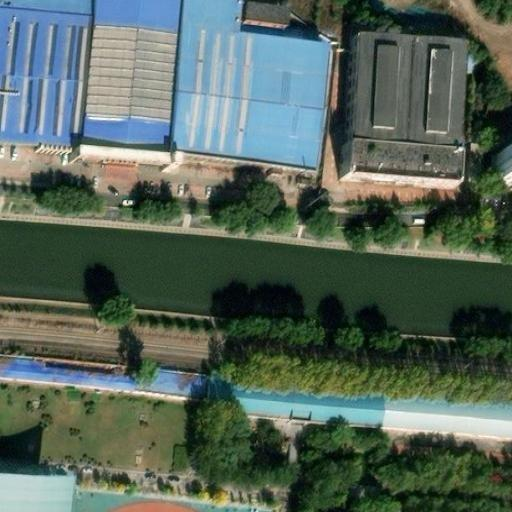building: (216, 381, 512, 443), (339, 32, 459, 184), (76, 0, 178, 172), (161, 0, 251, 180), (0, 12, 90, 154), (238, 46, 325, 188), (0, 351, 202, 399), (0, 469, 69, 512), (234, 16, 283, 38), (488, 151, 512, 183)
